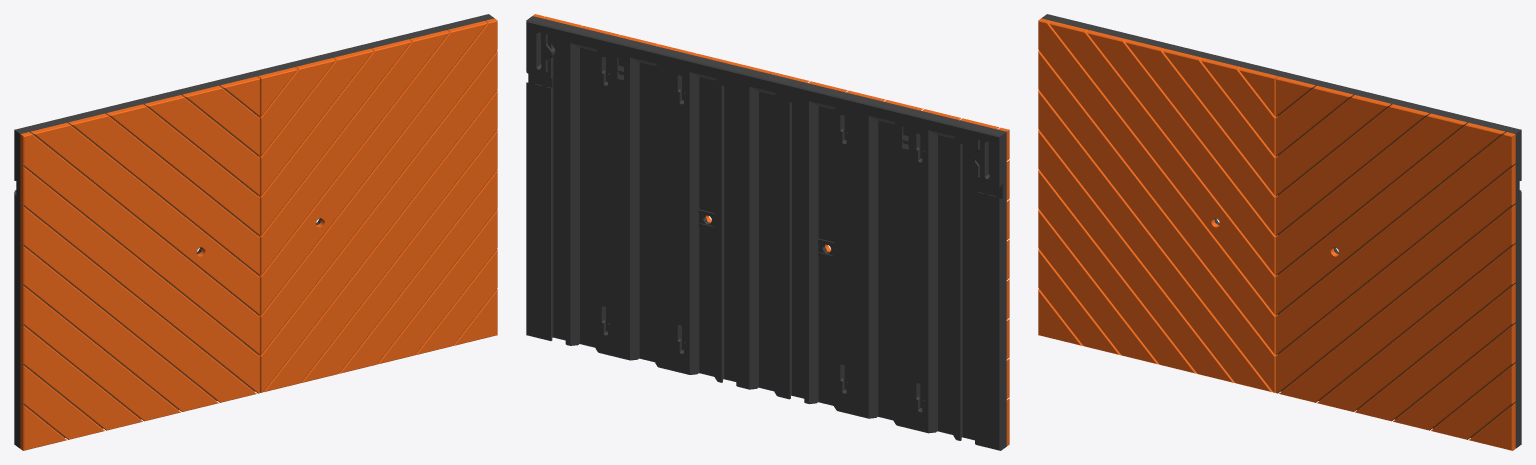
The model's file is Faceplate_Chevron_2W-2H.lib.glb.
3 renders of one model, left to right at view 1: azimuth 30°, elevation 25°; view 2: azimuth 150°, elevation 25°; view 3: azimuth 330°, elevation 25°, orthographic.
Visible parts, largest first — view 1: Faceplate_Chevron_2W-2H; view 2: Faceplate_Chevron_2W-2H; view 3: Faceplate_Chevron_2W-2H.
Boxes of the visible parts, x1=… form: Faceplate_Chevron_2W-2H: x1=14, y1=14, x2=497, y2=450; Faceplate_Chevron_2W-2H: x1=526, y1=14, x2=1009, y2=450; Faceplate_Chevron_2W-2H: x1=1038, y1=14, x2=1521, y2=450.
Size of the model in its own units: 175 by 111 by 6.2.
